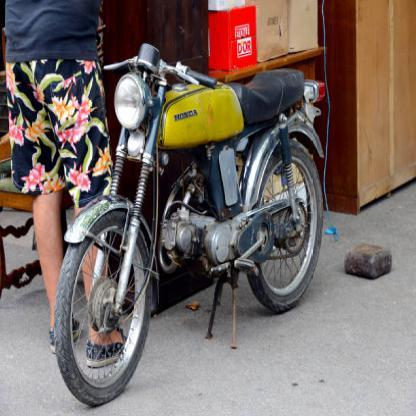Motorcycle: (47, 54, 327, 404)
